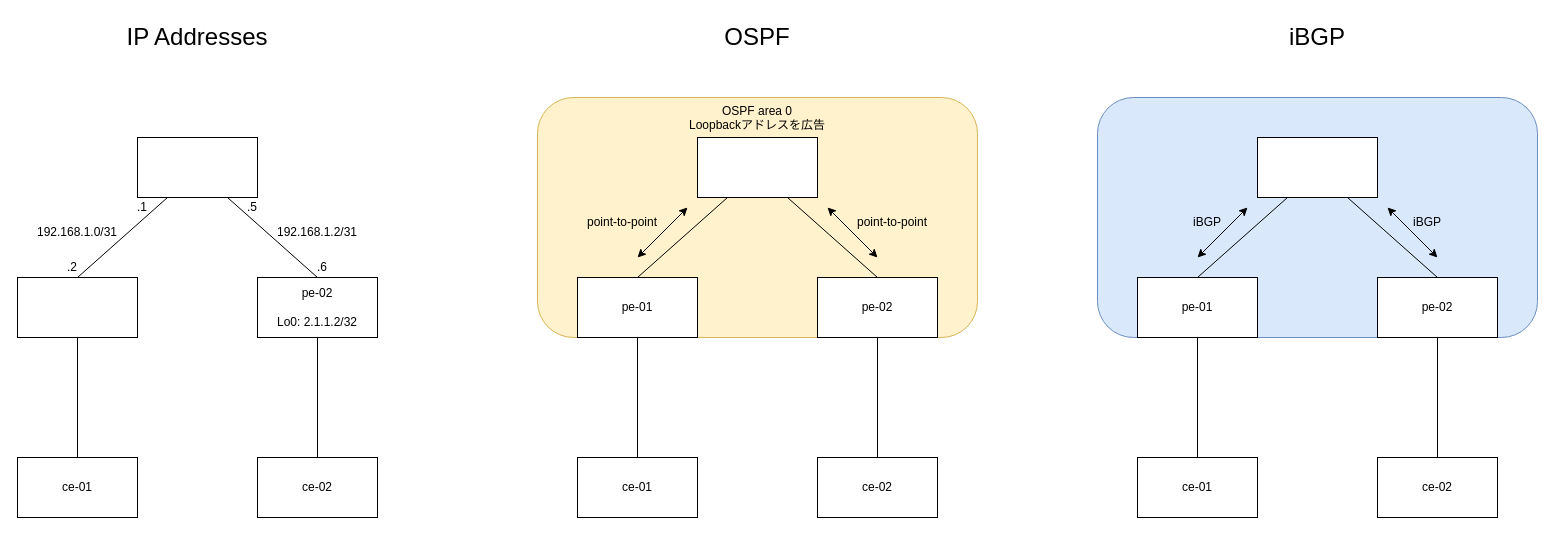
Image size: 1555x535. Some labels were removed from this diagram. Here are the shapes that lost their labels. From the top down, the box of each, then its label:
(136, 136, 258, 198): p-01 Lo0: 1.1.1.1/32
(696, 136, 818, 198): p-01
(1256, 136, 1378, 198): p-01 ルートリフレクタ
(1096, 96, 1538, 338): BGP 65001
(16, 276, 138, 338): pe-01 Lo0: 2.1.1.1/32
